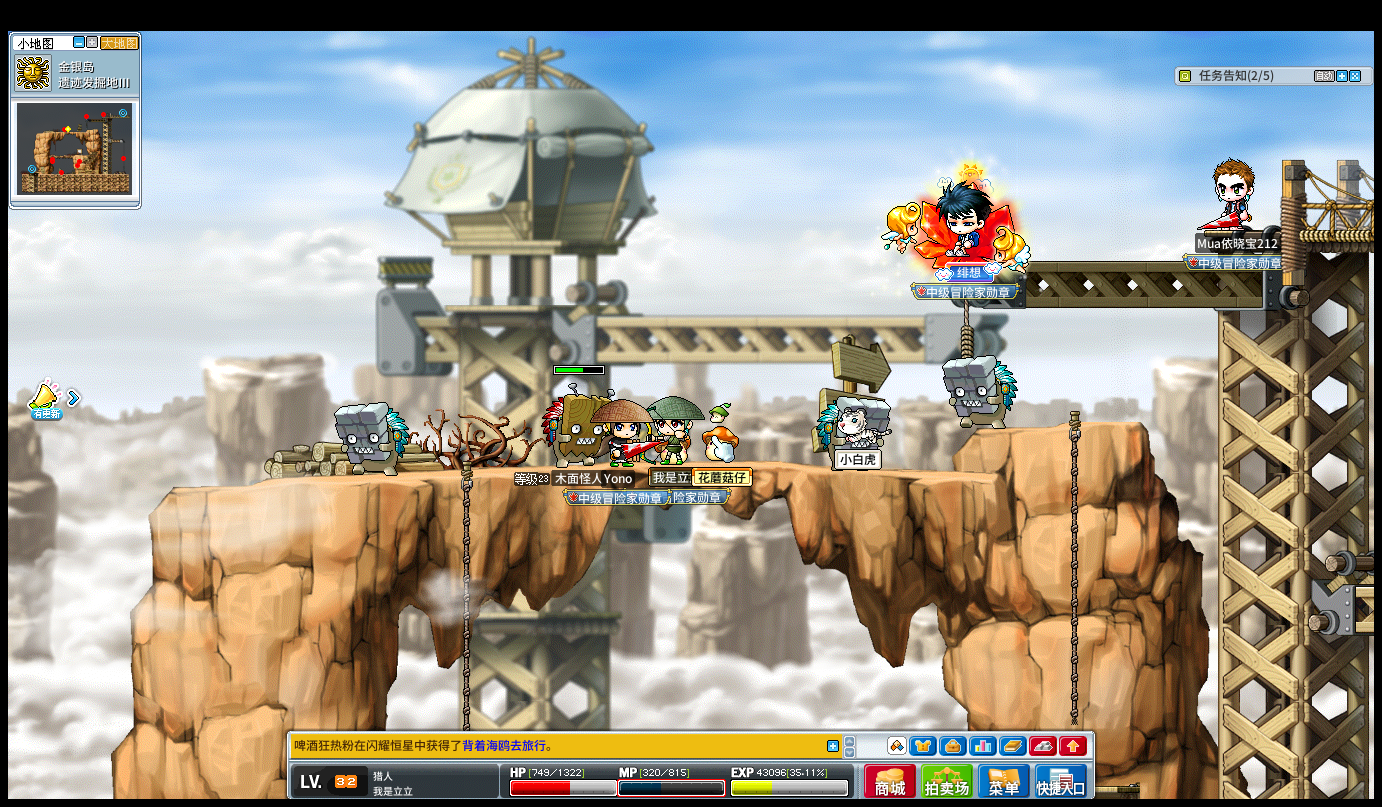floor: (147, 455, 1033, 484), (975, 417, 1141, 433), (977, 420, 1144, 435)
monster: (815, 393, 892, 470), (943, 353, 1017, 431), (541, 382, 609, 466), (336, 400, 409, 478)
rope: (458, 456, 474, 789), (1065, 407, 1081, 738), (1067, 409, 1080, 673), (458, 460, 473, 676), (1066, 618, 1080, 722)
